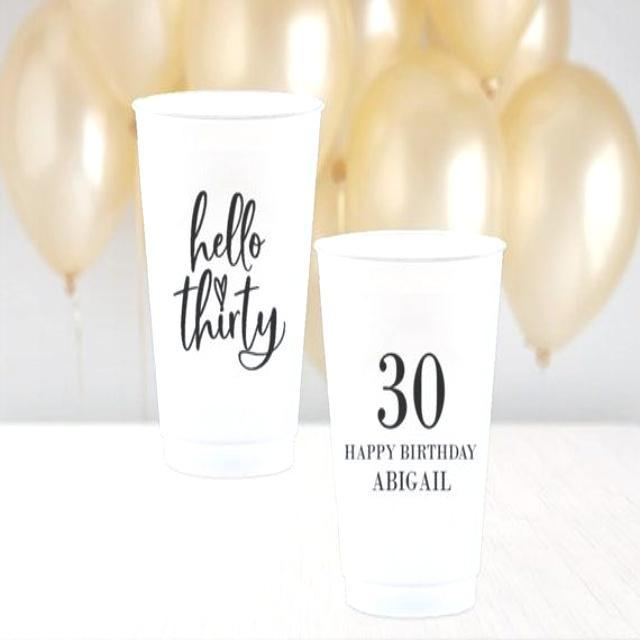paper_cup: (314, 228, 512, 622), (130, 92, 327, 478)
